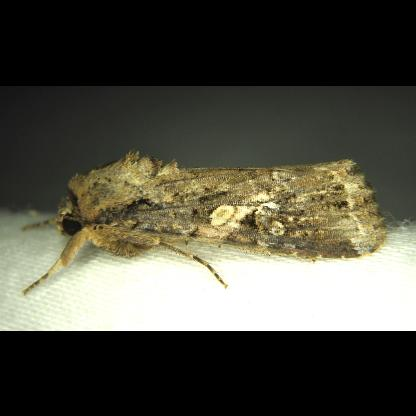Fall Armyworm Moth: (17, 144, 390, 300)
